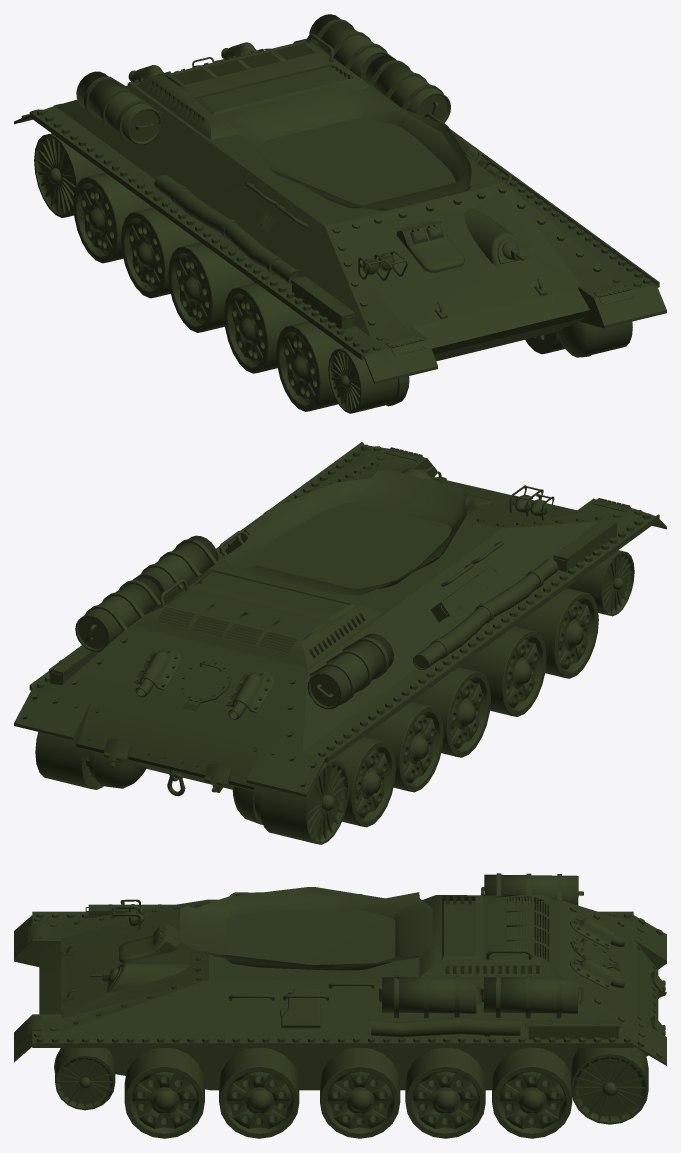
File: t34_85_hull_m0.obj
The picture shows the model from 3 angles, top to bottom: view 1: azimuth 30°, elevation 25°; view 2: azimuth 150°, elevation 25°; view 3: azimuth 270°, elevation 25°; orthographic projection. The views are drawn at different scales.
Visible parts, largest first — view 1: t34_85_hull_m0; view 2: t34_85_hull_m0; view 3: t34_85_hull_m0.
Boxes of the visible parts, box(x1,y1,x2,y2) form: t34_85_hull_m0: box(14, 14, 666, 413); t34_85_hull_m0: box(14, 442, 666, 844); t34_85_hull_m0: box(14, 873, 666, 1138).
Bounding box in the file's own units: 2.88 × 1.64 × 6.04.
Materials: 1 (1 with a texture image).
